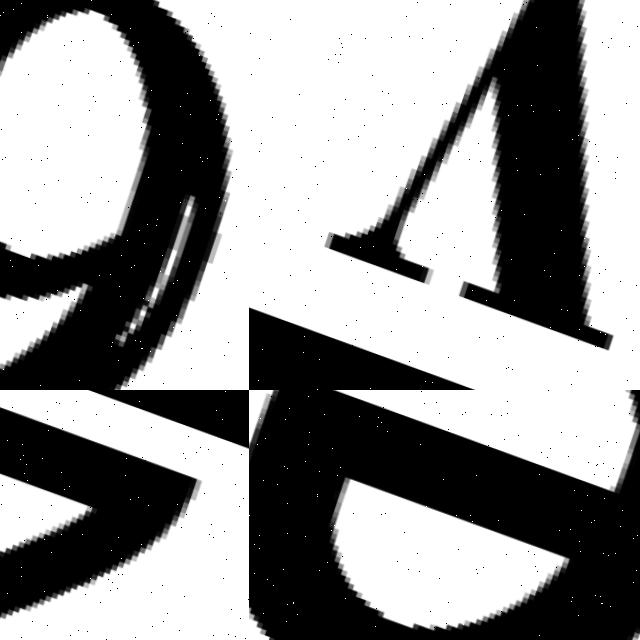2: (0, 390, 211, 640)
6: (0, 0, 249, 390)
E: (249, 390, 640, 640)
Y: (307, 0, 640, 369)
